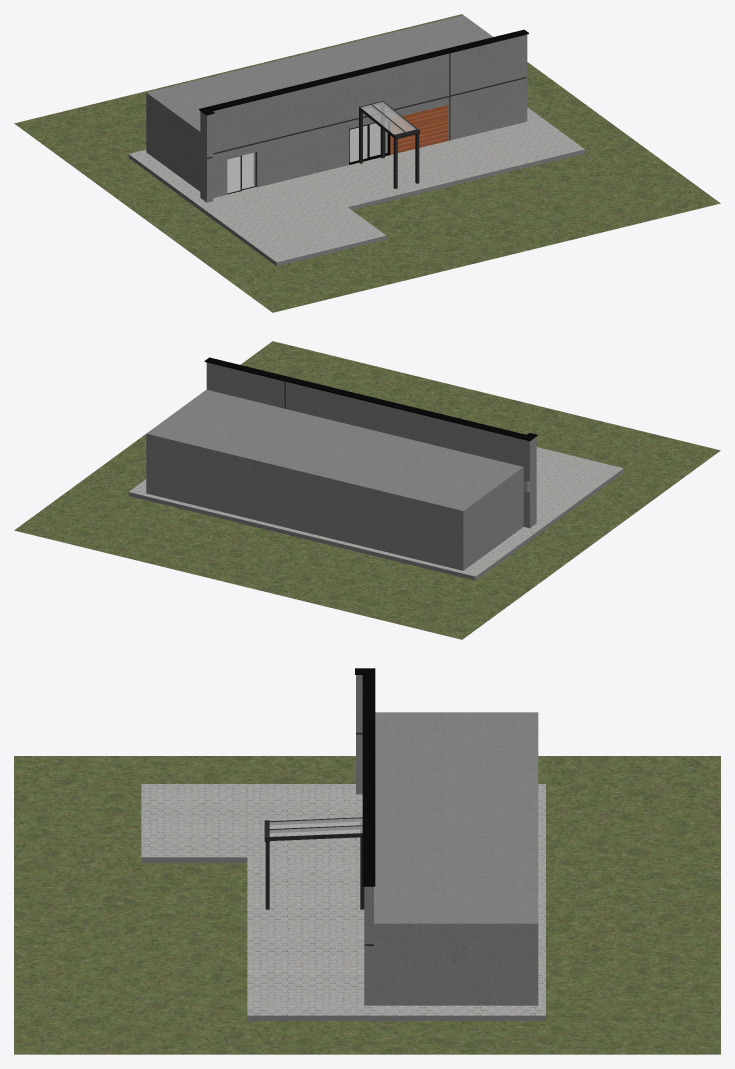
The model's file is vereanda_express.glb.
3 renders of one model, top to bottom at view 1: azimuth 30°, elevation 25°; view 2: azimuth 150°, elevation 25°; view 3: azimuth 270°, elevation 25°, orthographic. The views are drawn at different scales.
Parts seen in each view (by area): view 1: Building, Column_alu, Glass_opal; view 2: Building; view 3: Building, Glass_opal, Top_alu_1, Column_alu.
Boxes of the visible parts, x1,y1,x2,y2 form: Building: (14,14,720,312); Column_alu: (359,104,419,188); Glass_opal: (361,102,416,134); Building: (14,341,720,639); Building: (14,668,720,1054); Glass_opal: (269,818,362,836); Top_alu_1: (269,817,362,840); Column_alu: (265,821,364,909).
Bounding box in the file's own units: 23.43 × 4.72 × 23.43.
Materials: 9 (4 with a texture image).
